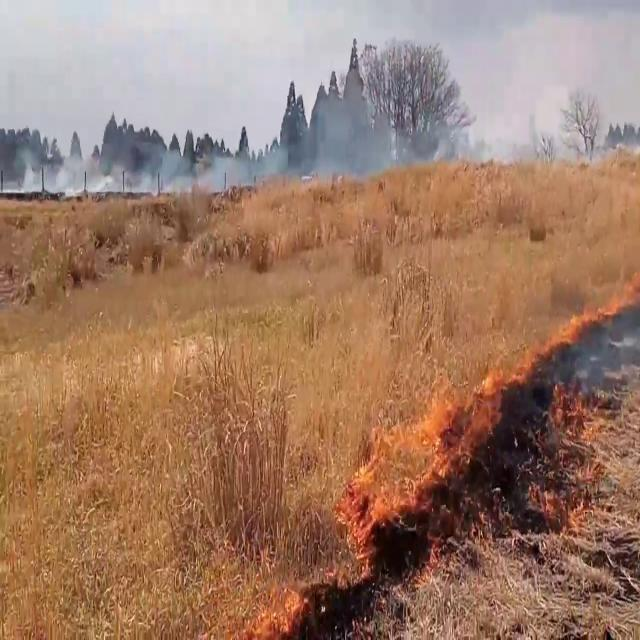Fire: (336, 350, 507, 578)
Smoke: (294, 65, 406, 189)
